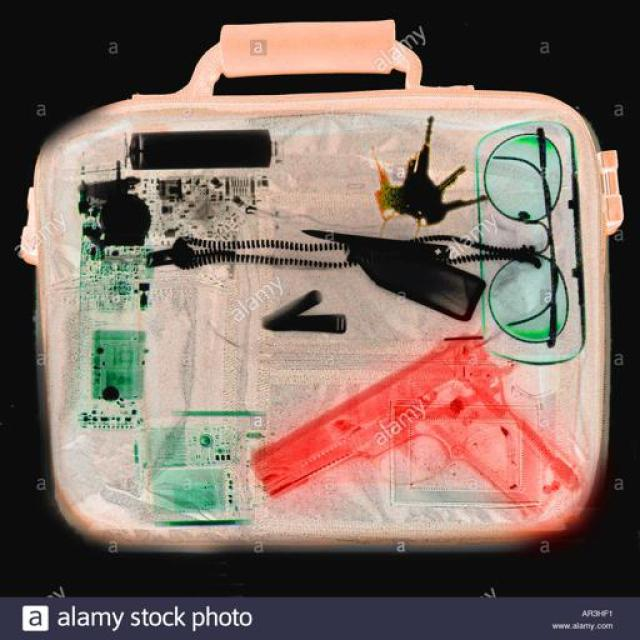pistol: (259, 330, 591, 516)
